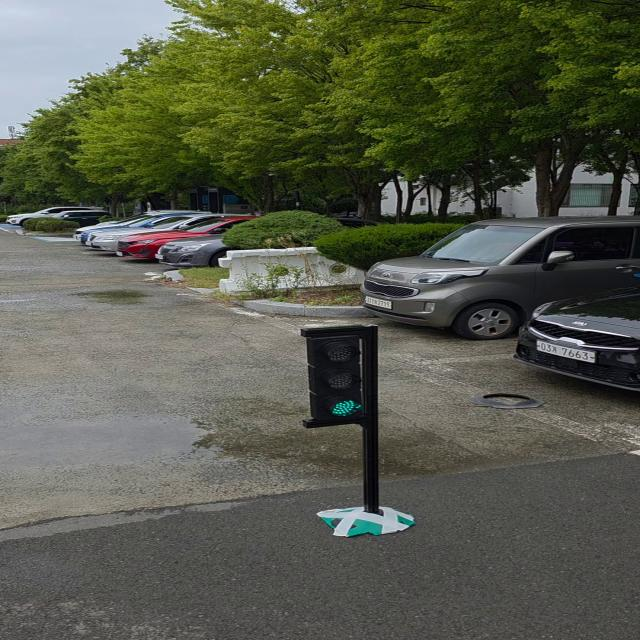green: (308, 329, 375, 424)
